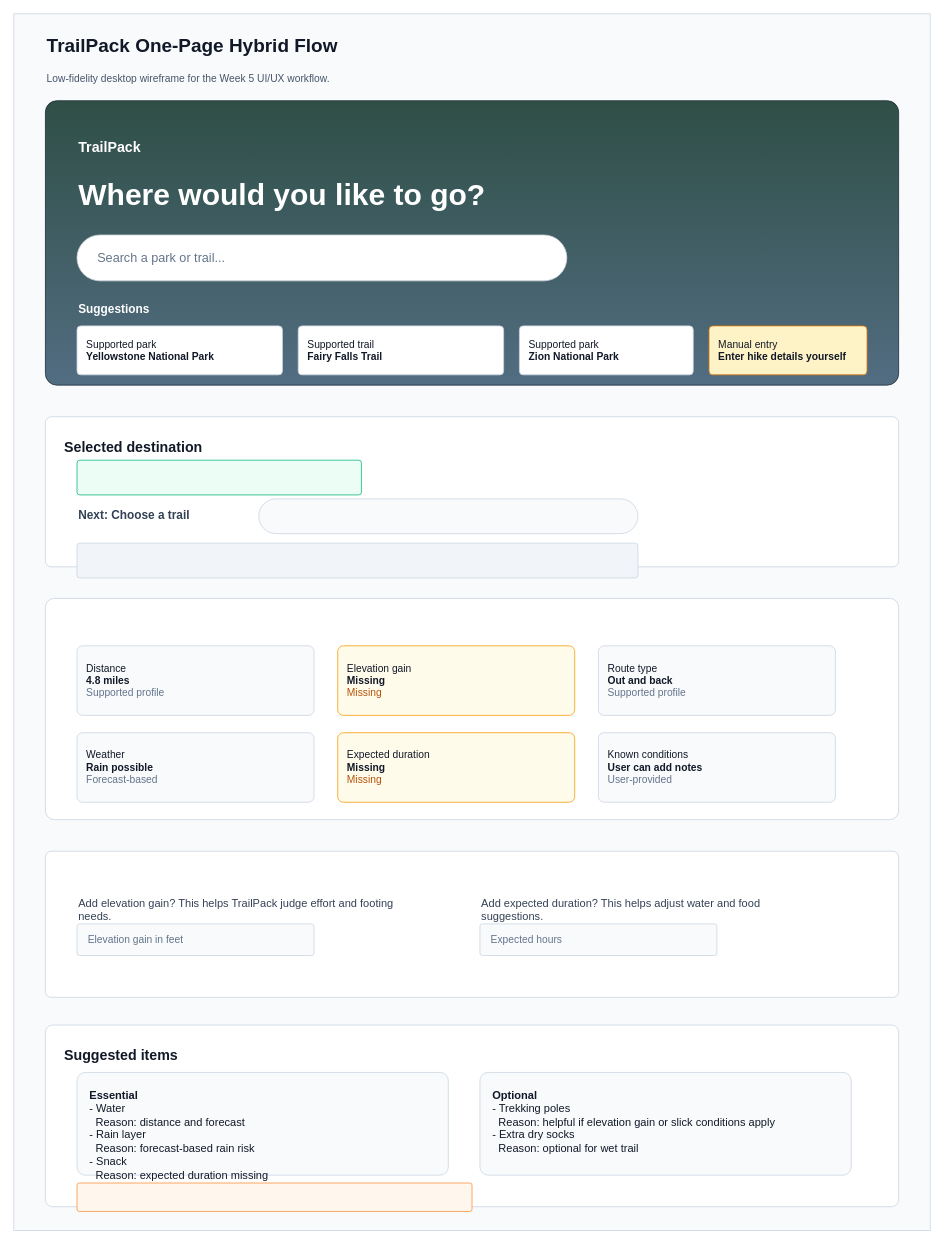
Some shapes in this 944 by 1244 pixel diagram are drawn without their labels. The shapes that lost their labels are listed below. From the top down, each one's box as (x1, y1, x2, y2) in pixels, then its label:
(45, 100, 899, 385): Scenic mountain or nature background
(76, 459, 361, 495): Park: Yellowstone National Park
(258, 498, 638, 534): Search supported trails in this park...
(76, 542, 638, 578): Trail suggestions: Fairy Falls Trail, Mount Washburn, Lone Star Geyser
(45, 598, 899, 820): Hike profile summary
(45, 850, 899, 997): Missing details
(76, 1182, 472, 1211): Missing or uncertain: elevation gain, expected duration
